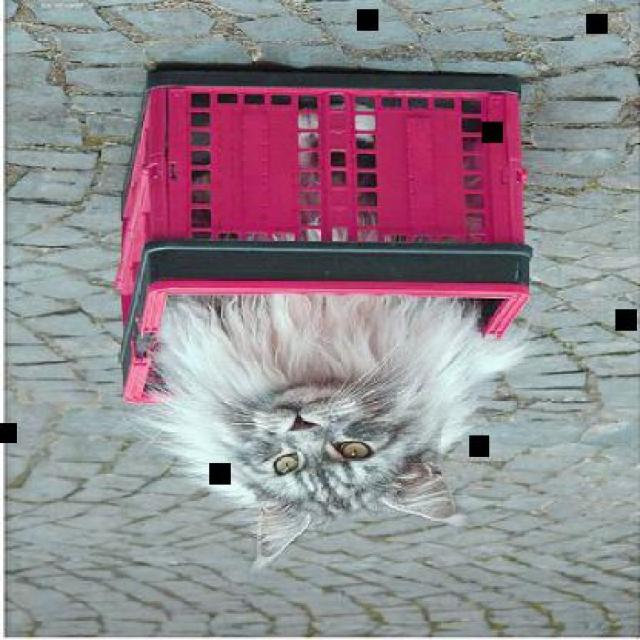cat: (166, 164, 517, 558)
